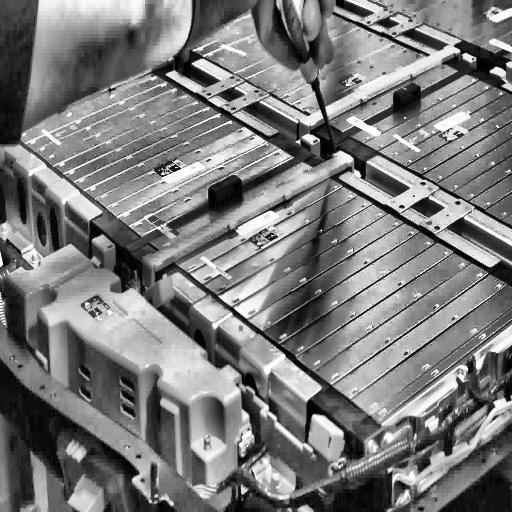battery_module: (149, 161, 512, 424), (20, 73, 294, 236), (190, 0, 458, 130), (353, 74, 512, 228)
busbar: (133, 145, 364, 310), (290, 39, 479, 159)
